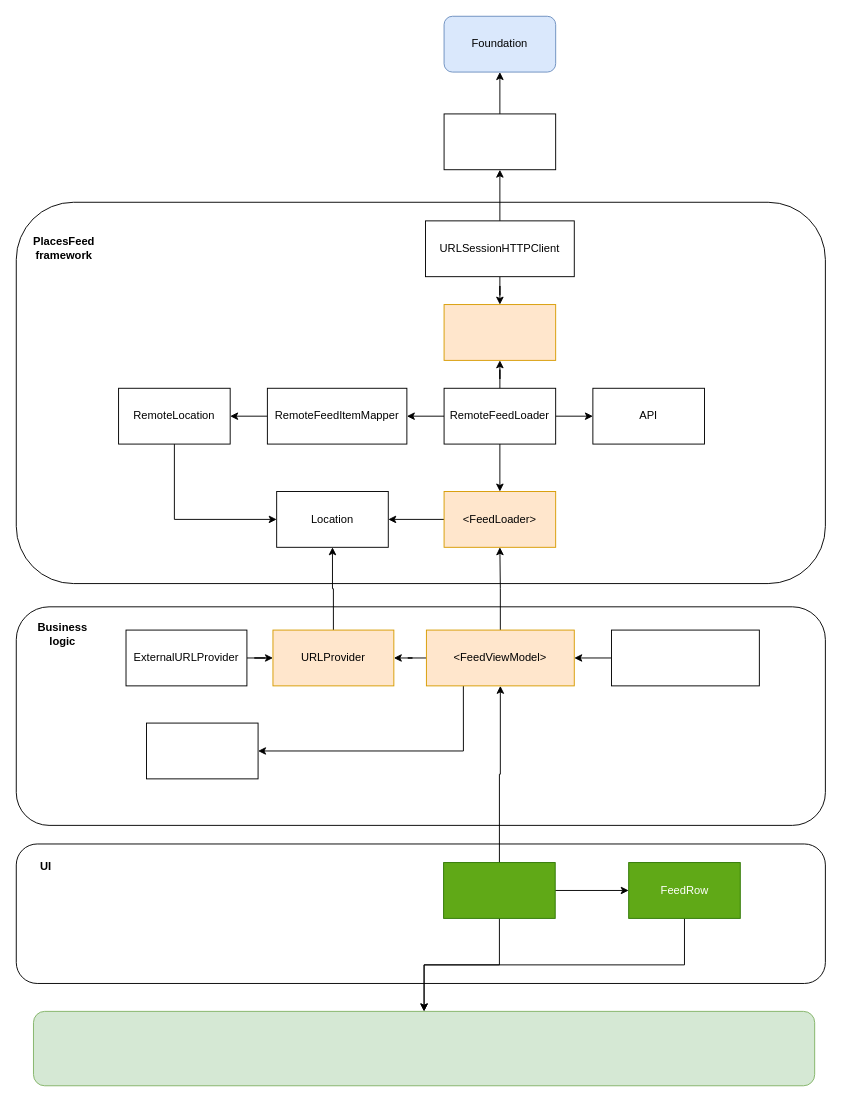
Image size: 842x1102. Some labels were removed from this diagram. The centre of each missing label's shape, as x and y in pixels:
"<HTTPClient>" belongs at pixel 499 332.
"FeedView" belongs at pixel 499 890.
"LocationFeedViewModel" belongs at pixel 685 657.
"LocationViewModel" belongs at pixel 202 750.
"SwiftUI" belongs at pixel 424 1048.
"URLSession" belongs at pixel 499 141.
